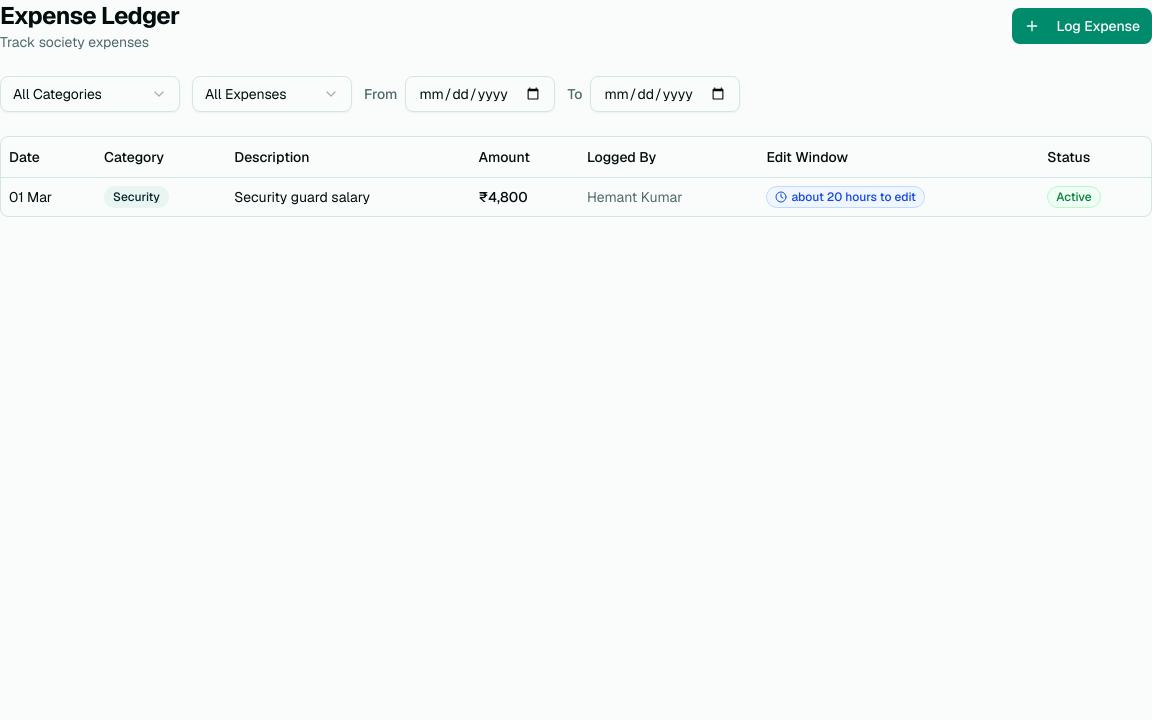
Test: Admin ExpensesPage › opens detail sheet when active expense row is clicked
Click the text "Security guard salary": x=302, y=196 [234, 188, 370, 206]
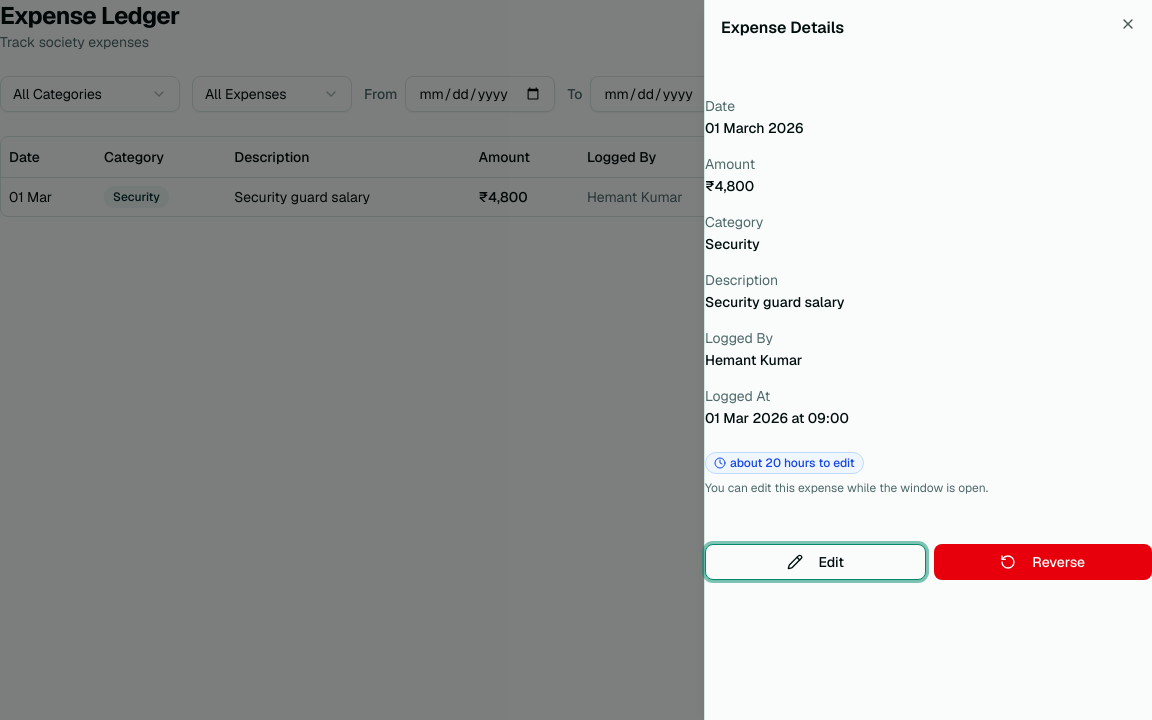
Expected: the heading "Expense Details" is shown, [721, 17, 844, 38]
